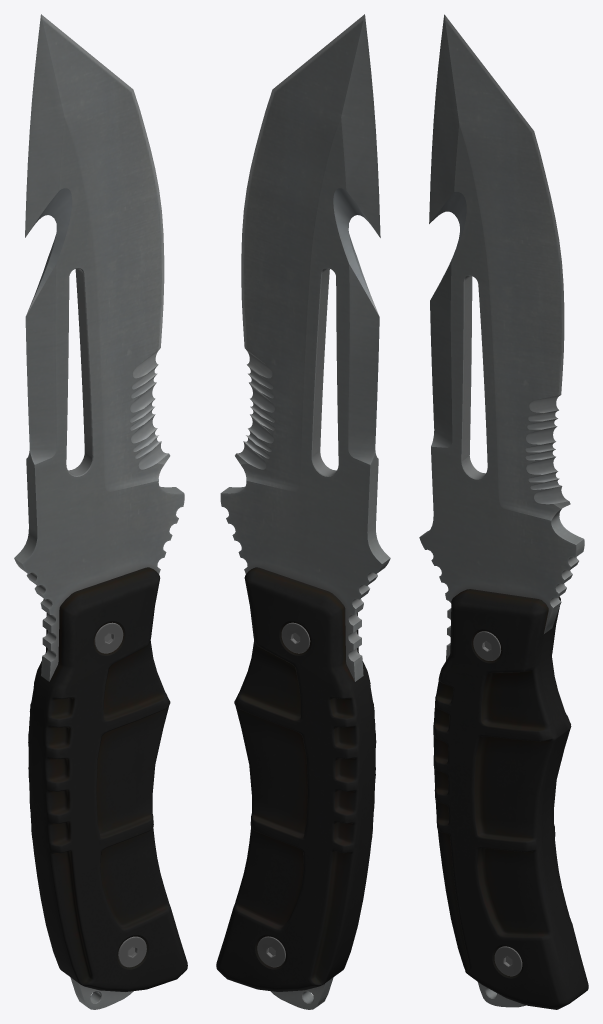
Rendered from weapon_knife_canis.glb.
3 views of the same model, side by side, from view 1: azimuth 30°, elevation 25°; view 2: azimuth 150°, elevation 25°; view 3: azimuth 330°, elevation 25° (orthographic). The views are drawn at different scales.
Parts seen in each view (by area): view 1: weapons/models/knife/knife_canis/weapon_knife_canis.vmdl_c.b; view 2: weapons/models/knife/knife_canis/weapon_knife_canis.vmdl_c.b; view 3: weapons/models/knife/knife_canis/weapon_knife_canis.vmdl_c.b.
Boxes of the visible parts, x1,y1,x2,y2 form: weapons/models/knife/knife_canis/weapon_knife_canis.vmdl_c.b: (14,14,187,1009); weapons/models/knife/knife_canis/weapon_knife_canis.vmdl_c.b: (216,14,390,1009); weapons/models/knife/knife_canis/weapon_knife_canis.vmdl_c.b: (419,14,588,1009).
Size of the model in its own units: 2.31 by 13.73 by 0.7125.
1 material, 1 textured.
